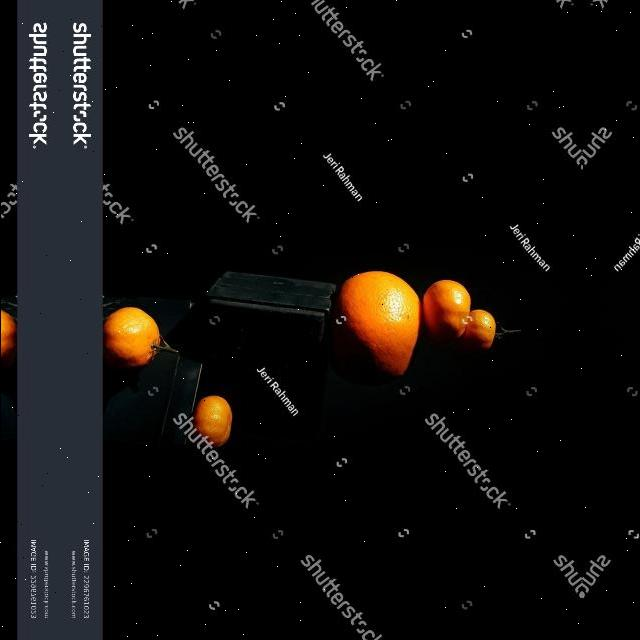Orange: (335, 269, 422, 376), (103, 305, 161, 367), (422, 278, 472, 342), (193, 394, 233, 447), (458, 308, 497, 351), (1, 309, 17, 360)
